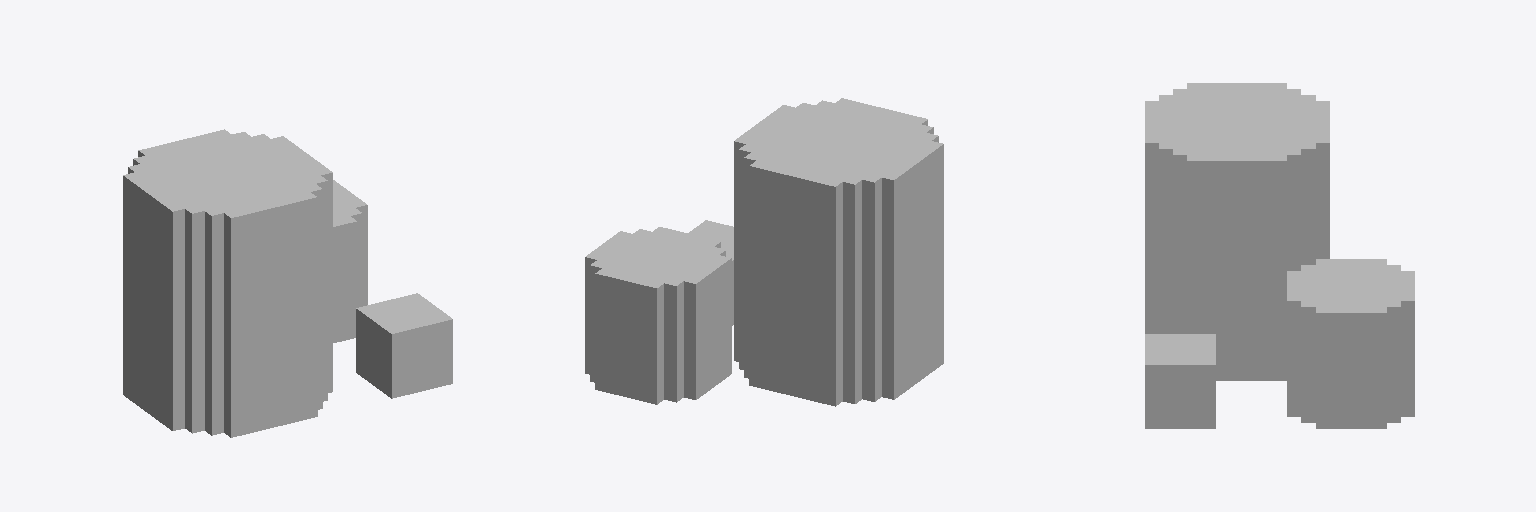
File: Farm.obj
The picture shows the model from 3 angles: view 1: azimuth 30°, elevation 25°; view 2: azimuth 150°, elevation 25°; view 3: azimuth 270°, elevation 25°; orthographic projection.
Visible parts, largest first — view 1: Farm; view 2: Farm; view 3: Farm.
Boxes of the visible parts, box(x1,y1,x2,y2) form: Farm: box(123, 129, 452, 437); Farm: box(585, 98, 943, 406); Farm: box(1145, 83, 1414, 428).
Size of the model in its own units: 2.1 by 1.7 by 1.9.